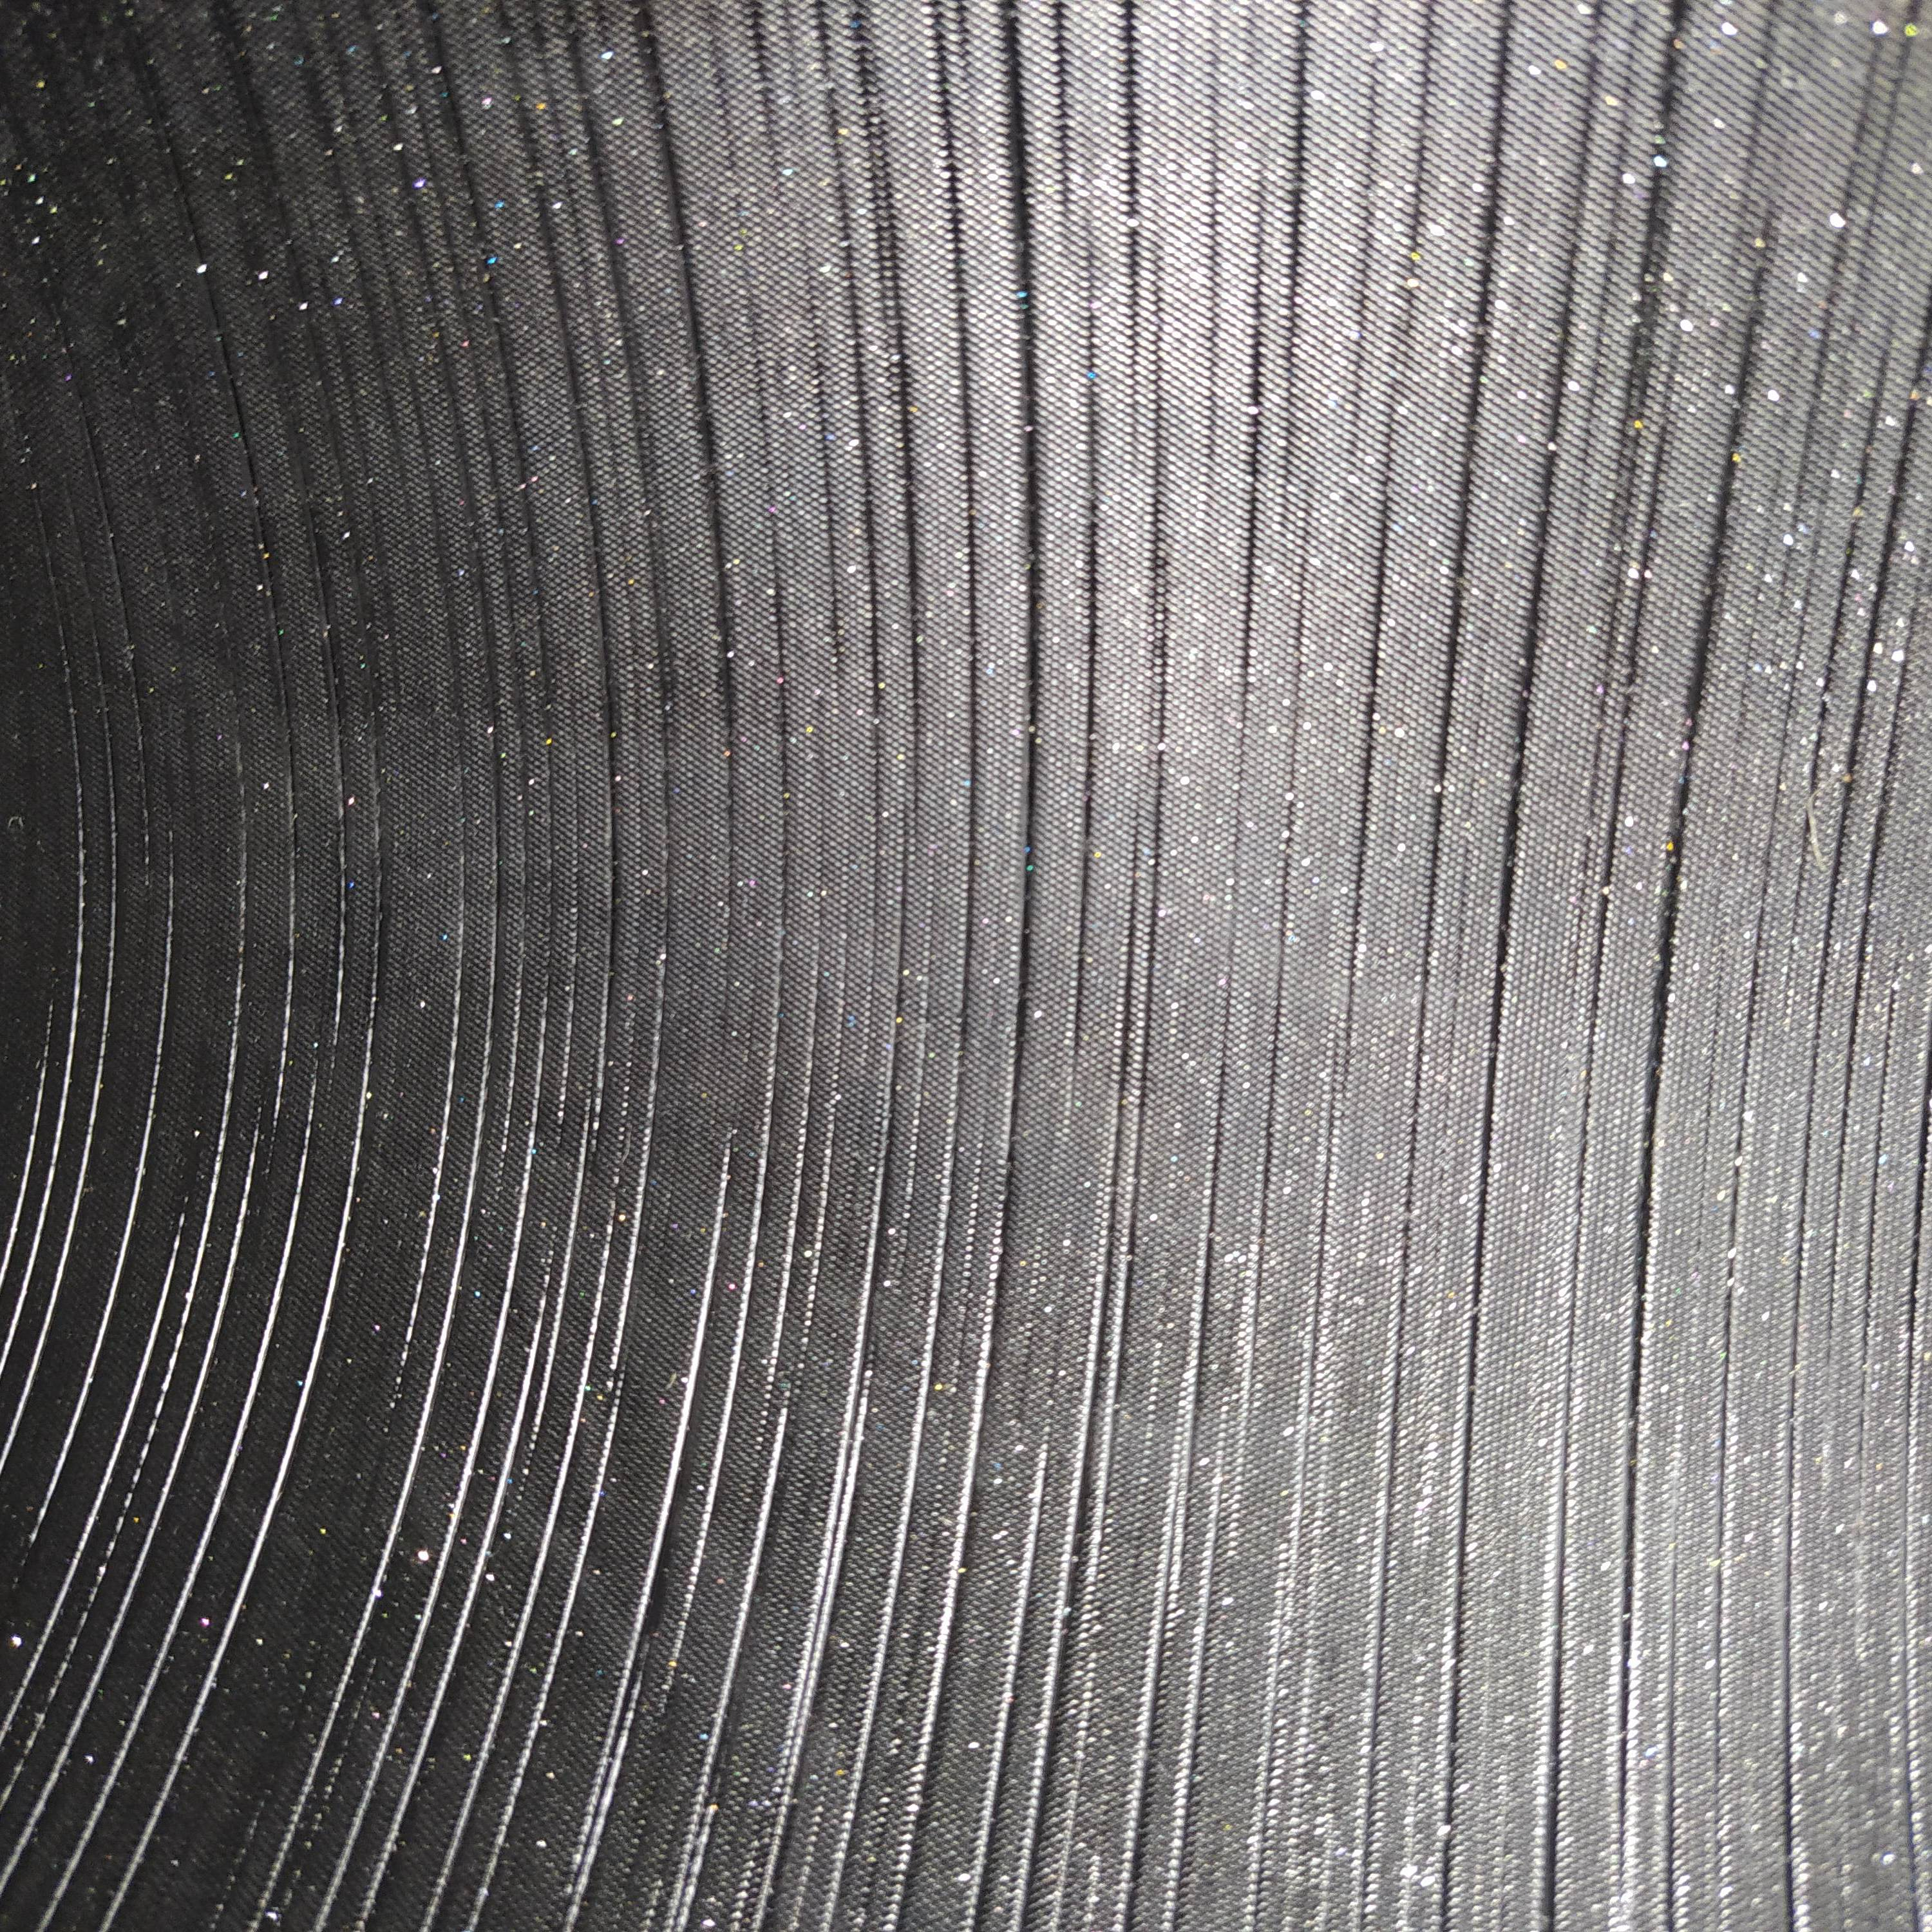friso grande: (991, 126, 1054, 386), (1660, 635, 1723, 847), (1645, 839, 1695, 1085), (1890, 1606, 1932, 1877), (1104, 1744, 1164, 1930), (952, 274, 985, 586), (814, 1408, 862, 1617), (1626, 1085, 1665, 1330), (1376, 324, 1422, 527), (1449, 326, 1493, 533), (1714, 297, 1771, 458), (1546, 1587, 1573, 1930), (1615, 1338, 1649, 1608), (1486, 830, 1525, 1063), (1571, 938, 1614, 1152), (1224, 1325, 1265, 1548), (1371, 1357, 1407, 1612), (1629, 124, 1672, 331), (1189, 1152, 1228, 1376), (1463, 133, 1509, 322), (1606, 327, 1654, 510), (1900, 1104, 1932, 1376), (734, 1433, 782, 1614), (1162, 1737, 1207, 1932), (1463, 1058, 1500, 1288), (1778, 1338, 1808, 1614), (1698, 451, 1743, 639), (1134, 586, 1182, 759), (1238, 432, 1267, 724), (1246, 147, 1274, 435), (1008, 1757, 1056, 1927), (743, 1790, 800, 1932), (1760, 653, 1808, 819), (842, 1217, 885, 1401), (1614, 1578, 1637, 1918), (1725, 984, 1769, 1157), (996, 998, 1028, 1233), (1714, 1154, 1748, 1376), (1030, 1619, 1079, 1769), (1077, 226, 1109, 460), (1456, 1281, 1490, 1502), (1132, 387, 1169, 587), (1504, 653, 1545, 835), (1713, 1368, 1743, 1614), (1111, 124, 1145, 343), (1088, 1178, 1123, 1385), (1437, 534, 1472, 741), (959, 1785, 1010, 1927), (1401, 126, 1435, 340), (1389, 1143, 1421, 1366), (1438, 1624, 1461, 1932), (356, 1504, 416, 1621), (828, 110, 865, 295), (1263, 881, 1295, 1097), (1251, 1090, 1281, 1318), (170, 1223, 216, 1369), (655, 1815, 717, 1923), (978, 1230, 1017, 1401), (1016, 384, 1049, 582), (1741, 819, 1780, 989), (1663, 1589, 1683, 1928), (862, 596, 890, 828), (1274, 246, 1307, 441), (890, 306, 925, 490), (897, 483, 925, 713), (952, 826, 980, 1056), (510, 387, 548, 554), (1812, 819, 1851, 985), (931, 122, 971, 280), (646, 129, 695, 258), (1523, 464, 1559, 644), (1829, 665, 1872, 816), (1361, 524, 1398, 695), (1422, 741, 1454, 941), (1010, 789, 1039, 1012), (1350, 127, 1384, 315), (892, 718, 922, 924), (1077, 451, 1104, 679), (1007, 1479, 1053, 1610), (1042, 4, 1085, 145), (370, 724, 403, 902), (1173, 1373, 1207, 1552), (1543, 294, 1576, 472), (916, 1217, 955, 1371), (1898, 1378, 1925, 1603), (934, 1047, 968, 1224), (1125, 1617, 1171, 1746), (115, 1306, 168, 1417), (1785, 1141, 1815, 1338), (1569, 1063, 1601, 1247), (764, 534, 794, 729), (264, 191, 318, 297), (244, 451, 281, 607), (1067, 1380, 1106, 1529), (1196, 1463, 1235, 1612), (1403, 939, 1431, 1143), (327, 428, 366, 575), (895, 1366, 938, 1500), (1776, 1617, 1799, 1865), (713, 1592, 763, 1707), (1564, 1155, 1591, 1369), (644, 902, 678, 1070), (874, 1493, 924, 1606), (856, 126, 902, 246), (126, 1099, 161, 1253), (1553, 1378, 1576, 1614), (1798, 984, 1833, 1136), (699, 476, 738, 614), (198, 1430, 249, 1534), (101, 1826, 154, 1927), (338, 219, 384, 334), (379, 126, 428, 232), (1488, 11, 1529, 140), (304, 311, 349, 428), (771, 1674, 819, 1782), (94, 1249, 134, 1375), (485, 264, 525, 389), (763, 893, 791, 1074), (955, 1398, 994, 1529), (1146, 223, 1177, 391), (706, 612, 741, 754), (1353, 685, 1382, 862), (1178, 1605, 1214, 1746), (835, 1720, 885, 1821), (1640, 419, 1681, 541), (966, 575, 985, 830), (1840, 449, 1882, 566), (982, 1668, 1024, 1785), (793, 1024, 823, 1189), (50, 1016, 85, 1155), (922, 0, 959, 133), (635, 398, 667, 552), (996, 0, 1033, 131), (649, 550, 678, 720), (885, 924, 911, 1104), (403, 1385, 444, 1502), (196, 1601, 255, 1683), (1069, 895, 1090, 1118), (630, 1063, 669, 1184), (1877, 421, 1916, 541), (1861, 541, 1897, 672), (1021, 573, 1042, 791), (237, 1316, 274, 1440), (1345, 317, 1371, 488), (258, 1428, 299, 1539), (885, 1808, 922, 1930), (357, 580, 389, 722), (48, 1514, 96, 1608), (449, 1155, 488, 1270), (688, 1265, 724, 1391), (870, 1097, 906, 1223), (853, 0, 888, 126), (814, 1821, 856, 1925), (1794, 752, 1821, 918), (1116, 7, 1148, 145), (750, 1062, 786, 1185), (559, 1829, 603, 1928), (563, 1504, 605, 1606), (856, 453, 885, 607), (1290, 7, 1318, 161), (1145, 748, 1169, 924), (1573, 0, 1610, 117), (16, 1463, 57, 1569), (492, 1210, 533, 1316), (419, 1516, 465, 1610), (439, 1417, 483, 1514), (855, 1628, 899, 1725), (655, 724, 678, 909), (136, 1746, 191, 1824), (688, 329, 717, 479), (1123, 780, 1143, 998), (327, 651, 350, 835), (76, 1534, 124, 1622), (679, 1511, 724, 1606), (1865, 318, 1897, 451), (25, 1281, 67, 1380), (846, 290, 870, 460), (612, 295, 651, 403), (1345, 858, 1368, 1040), (1079, 672, 1099, 886), (295, 1311, 329, 1433), (529, 554, 557, 697), (579, 518, 619, 617), (62, 892, 90, 1033), (869, 237, 904, 350), (1056, 1529, 1104, 1612), (156, 1198, 191, 1309), (474, 626, 510, 738), (426, 1274, 464, 1380), (1900, 292, 1932, 416), (426, 326, 465, 426), (87, 989, 119, 1111), (540, 260, 580, 356), (1652, 37, 1693, 133), (513, 1081, 543, 1210), (96, 1414, 133, 1518), (1148, 1539, 1187, 1638), (327, 1637, 373, 1720), (469, 1318, 510, 1412), (467, 165, 501, 278), (609, 1300, 648, 1398), (4, 1353, 39, 1460), (154, 922, 175, 1099), (345, 1060, 372, 1201), (552, 343, 594, 432), (451, 1859, 504, 1930), (587, 1192, 621, 1304), (945, 1520, 982, 1621), (366, 913, 391, 1063), (297, 1721, 349, 1794), (64, 1368, 103, 1463), (566, 430, 605, 525), (1568, 111, 1589, 287), (0, 1143, 27, 1283), (534, 694, 561, 833), (1364, 1596, 1387, 1757), (602, 1665, 646, 1748), (513, 1412, 554, 1502), (288, 39, 329, 129), (1415, 5, 1442, 143), (563, 41, 602, 134), (267, 1219, 303, 1322), (725, 1288, 755, 1408), (313, 524, 341, 651), (115, 1453, 154, 1545), (345, 1847, 391, 1925), (1744, 55, 1783, 147), (697, 1414, 734, 1509), (525, 1640, 573, 1714), (1743, 203, 1776, 308), (464, 520, 499, 619), (225, 12, 260, 111), (582, 124, 619, 218), (640, 37, 678, 131), (722, 750, 740, 947), (741, 1184, 771, 1299), (780, 1182, 803, 1332), (591, 603, 619, 725), (619, 1177, 648, 1299), (310, 1844, 352, 1925), (699, 1700, 731, 1808), (241, 111, 287, 186), (444, 428, 481, 520), (632, 1537, 672, 1621), (1049, 113, 1076, 241), (1764, 1859, 1812, 1930), (127, 32, 165, 122), (1359, 1752, 1378, 1923), (922, 1603, 968, 1675), (67, 1106, 103, 1200), (311, 127, 352, 209), (7, 1782, 48, 1863), (154, 126, 196, 203), (1109, 1005, 1129, 1175), (669, 244, 706, 333), (658, 1447, 692, 1545), (51, 1192, 83, 1295), (1783, 571, 1815, 674), (386, 1638, 432, 1709), (272, 1796, 329, 1852), (159, 1401, 196, 1486), (175, 196, 212, 281), (287, 1108, 315, 1219), (1631, 554, 1660, 665), (580, 1744, 617, 1829), (488, 1614, 538, 1677), (594, 955, 617, 1092), (502, 1714, 548, 1782), (524, 1525, 561, 1608), (1587, 924, 1608, 1069), (21, 1044, 44, 1177), (249, 1852, 294, 1921), (485, 745, 506, 888), (221, 366, 255, 456), (598, 203, 632, 294), (184, 1320, 221, 1401), (226, 1527, 264, 1608), (593, 1394, 621, 1500), (203, 271, 235, 364), (1447, 1497, 1472, 1617), (1813, 656, 1844, 755), (908, 1739, 947, 1815), (209, 1235, 241, 1327), (548, 1421, 577, 1523), (612, 1603, 656, 1668), (580, 1309, 605, 1426), (713, 1127, 734, 1263), (372, 37, 409, 115), (430, 39, 467, 117), (533, 952, 556, 1077), (435, 1606, 476, 1677), (1826, 571, 1858, 662), (754, 27, 782, 127), (327, 1200, 352, 1315), (510, 131, 548, 203), (570, 1086, 589, 1231), (1617, 663, 1644, 770), (16, 1194, 39, 1316), (366, 350, 395, 449), (1288, 120, 1309, 251), (230, 1155, 262, 1240), (603, 828, 625, 955), (777, 725, 793, 895), (488, 1782, 525, 1854), (177, 1681, 216, 1750), (173, 1529, 207, 1608), (527, 193, 561, 272), (600, 724, 625, 832), (101, 860, 120, 996), (34, 1854, 71, 1925), (1605, 763, 1624, 897), (996, 1587, 1028, 1668), (359, 1707, 400, 1771), (37, 1136, 62, 1240), (474, 1042, 499, 1146), (796, 1603, 832, 1675), (538, 833, 561, 945), (913, 1683, 955, 1743), (34, 973, 58, 1076), (487, 890, 504, 1033), (412, 237, 441, 326), (136, 1481, 166, 1564), (142, 1622, 180, 1686), (149, 1369, 177, 1456), (380, 1785, 418, 1851), (437, 1803, 481, 1858), (540, 1323, 571, 1399), (338, 1778, 373, 1845), (418, 1863, 455, 1927), (472, 1683, 518, 1734), (449, 111, 487, 173), (511, 64, 540, 142), (416, 1675, 453, 1734), (556, 1235, 580, 1322), (676, 1378, 702, 1458), (492, 0, 524, 65), (76, 1785, 104, 1856), (76, 1647, 108, 1709), (124, 1679, 156, 1736), (621, 0, 658, 48), (1334, 1035, 1357, 1111), (460, 1744, 492, 1799), (400, 1730, 430, 1787), (115, 1560, 149, 1610), (541, 1603, 582, 1644), (97, 1729, 126, 1787), (1902, 1868, 1928, 1930), (1619, 41, 1638, 124), (28, 1606, 58, 1660), (0, 1288, 19, 1369), (1667, 0, 1702, 42), (1759, 0, 1785, 53), (402, 1580, 432, 1626), (5, 1663, 28, 1723), (1622, 0, 1647, 48), (58, 1707, 76, 1771), (111, 1606, 127, 1647)
friso pequeno: (1817, 131, 1867, 338), (1856, 1040, 1897, 1263), (1272, 665, 1309, 890), (1201, 120, 1224, 474), (1691, 985, 1727, 1212), (1039, 1773, 1090, 1925), (1288, 448, 1322, 672), (1854, 1253, 1882, 1506), (1028, 1313, 1070, 1477), (1286, 1415, 1322, 1612), (1215, 927, 1246, 1157), (405, 375, 451, 518), (126, 743, 166, 902), (1716, 140, 1755, 306), (1709, 1591, 1729, 1923), (1065, 1637, 1109, 1780), (750, 361, 787, 531), (1297, 1230, 1330, 1417), (283, 789, 317, 975), (1256, 1601, 1293, 1759), (1594, 515, 1631, 665), (205, 1058, 241, 1214), (800, 212, 828, 407), (380, 1295, 425, 1419), (1569, 810, 1599, 985), (433, 1014, 469, 1162), (1576, 665, 1612, 812), (1226, 722, 1251, 925), (264, 970, 294, 1134), (48, 554, 80, 706), (71, 352, 106, 488), (580, 265, 619, 389), (846, 1826, 893, 1927), (274, 605, 301, 786), (1798, 329, 1833, 464), (1361, 5, 1394, 147), (226, 717, 257, 874), (350, 1422, 387, 1548), (103, 481, 131, 644), (412, 1166, 448, 1295), (736, 203, 764, 364), (281, 386, 317, 513), (439, 525, 469, 671), (99, 692, 124, 867), (119, 642, 159, 748), (1122, 331, 1150, 481), (306, 985, 343, 1099), (67, 701, 88, 895), (384, 272, 426, 370), (1783, 471, 1815, 594), (1205, 2, 1233, 140), (702, 0, 738, 110), (449, 858, 474, 1010), (1663, 276, 1688, 426), (778, 1325, 817, 1421), (605, 1829, 644, 1925), (232, 881, 253, 1053), (626, 605, 649, 761), (777, 0, 807, 117), (635, 750, 655, 929), (812, 794, 828, 1012), (1313, 1099, 1338, 1238), (614, 501, 642, 623), (717, 108, 750, 211), (455, 685, 474, 862), (918, 876, 938, 1047), (1778, 911, 1803, 1044), (1882, 30, 1920, 119), (823, 550, 846, 692), (1875, 961, 1911, 1053), (1253, 1757, 1272, 1923), (603, 387, 630, 508), (610, 1070, 637, 1189), (909, 715, 931, 858), (909, 1033, 929, 1189), (1865, 115, 1895, 214), (814, 407, 835, 547), (1852, 44, 1884, 133), (1803, 511, 1833, 603), (398, 458, 423, 564), (334, 837, 352, 984), (571, 168, 593, 290), (755, 126, 789, 195), (717, 952, 736, 1058)
